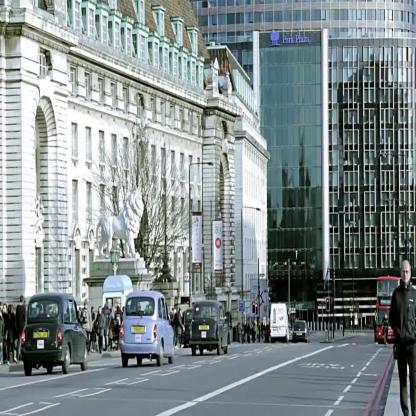bus: (376, 274, 400, 345)
car: (22, 294, 87, 375), (119, 292, 173, 363), (191, 303, 229, 356), (293, 320, 309, 339)
truck: (269, 303, 289, 344)
